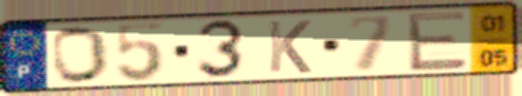3: (191, 17, 253, 82)
5: (114, 20, 170, 84)
7: (347, 13, 395, 74)
E: (405, 9, 471, 74)
K: (266, 19, 314, 75)
O: (50, 24, 112, 86)
